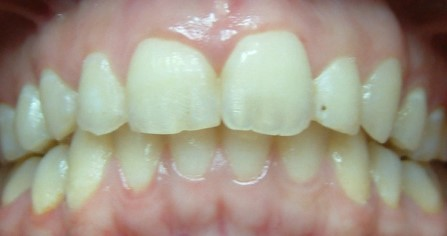1st Premolar: (30, 142, 64, 215), (394, 79, 426, 151), (15, 78, 44, 151), (371, 144, 402, 209)
2nd Premolar: (402, 161, 442, 214), (0, 157, 37, 206), (412, 106, 444, 159), (0, 99, 19, 160)
Canine: (360, 52, 402, 144), (64, 133, 110, 214), (37, 61, 75, 141), (331, 129, 371, 205)
Central Incisor: (221, 23, 314, 135), (125, 28, 221, 135), (166, 122, 221, 188), (221, 121, 275, 188)
Lateral Incisor: (75, 44, 124, 136), (110, 120, 166, 194), (275, 115, 330, 186), (314, 51, 360, 135)
